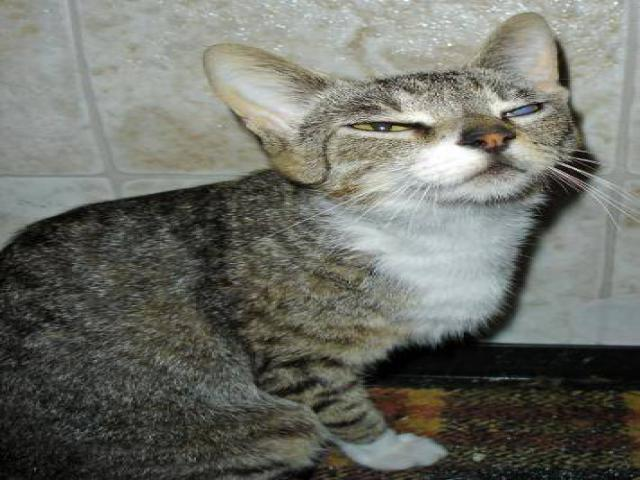cat: (1, 14, 618, 476)
